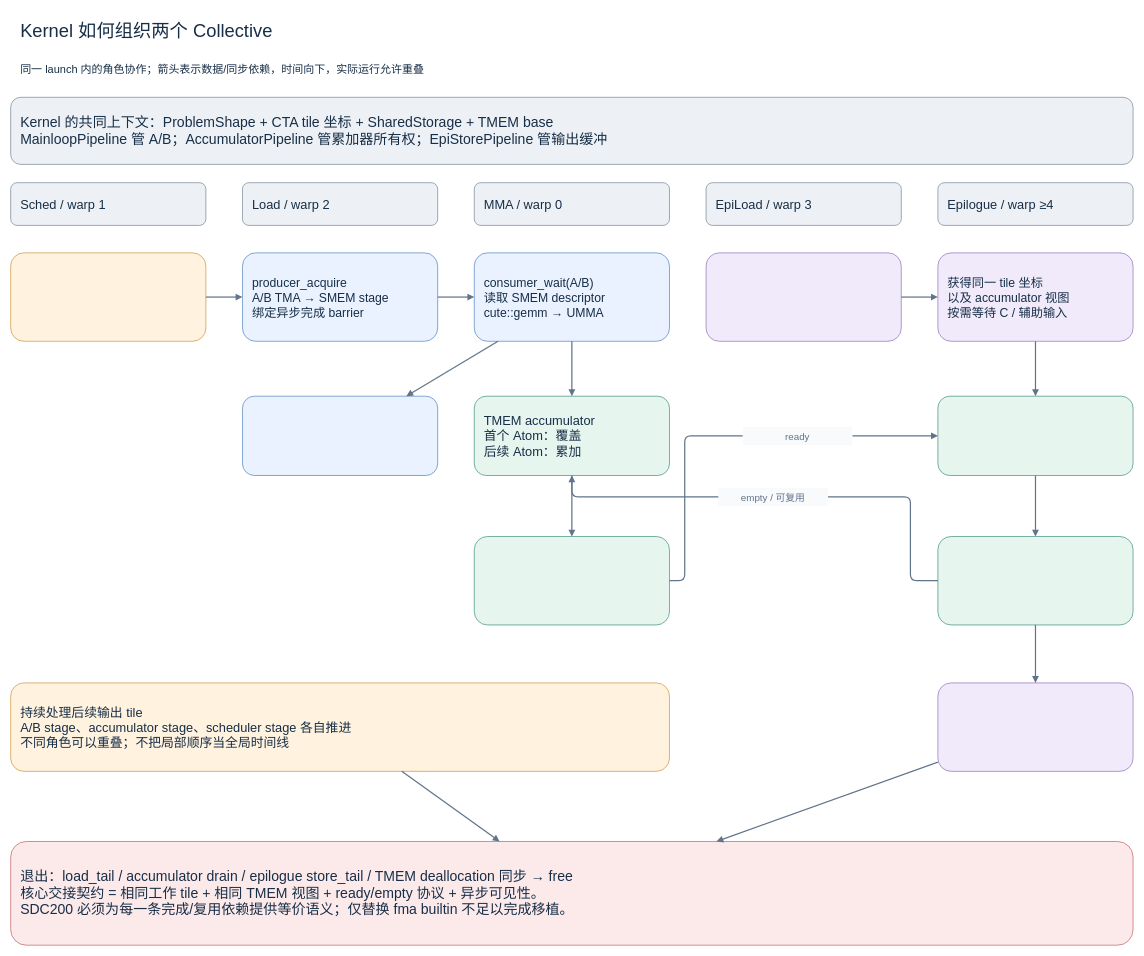
The diagram is 1144 pixels wide and 956 high, and some of its shapes have lost their labels. The centre of each missing label's shape, as x and y in pixels:
A/B stage 所有权归还 经 UMMA 同步语义 才允许下一次覆盖: (x=340, y=435)
acc.consumer_wait 等异步 MMA 可读 TMEM → 寄存器: (x=1035, y=435)
mma 返回到 kernel acc.producer_commit 发布对应 stage 完成: (x=571, y=580)
visit：缩放 / 融合 RMEM → SMEM D fence → TMA store: (x=1035, y=726)
按需加载 C / 辅助输入 独立 load pipeline 本例 C=void：无 C load: (x=803, y=296)
获取下一工作 tile CLC 或调度实现 输出统一 MNKL 坐标: (x=108, y=296)
读完所需 TMEM 数据 fence + consumer_release 累加器 stage 可复用: (x=1035, y=580)
